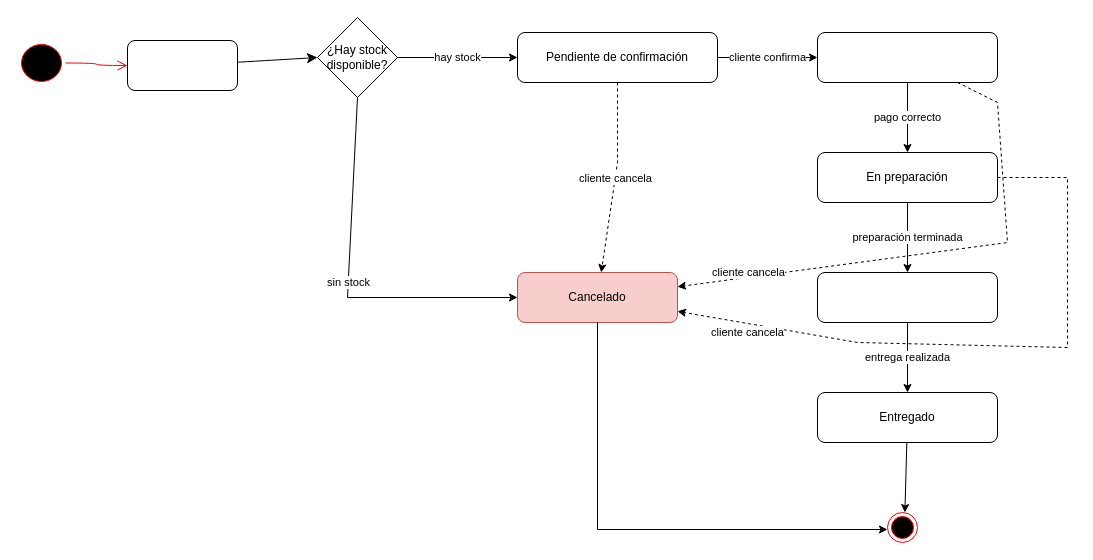
Image size: 1093x560. Some labels were removed from this diagram. Each missing label, with the centre of its shape:
Carrito: pixel 182 65
Enviado: pixel 907 297
Pendiente de pago: pixel 907 57
